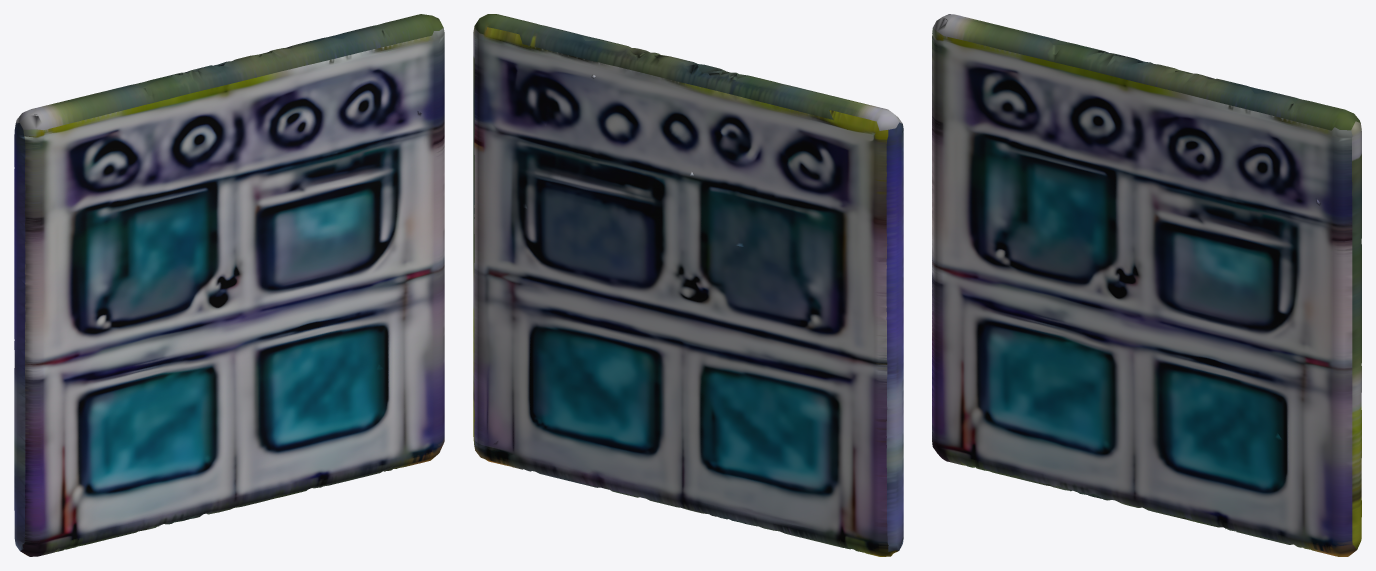
File: stove.glb
The picture shows the model from 3 angles, left to right: view 1: azimuth 30°, elevation 25°; view 2: azimuth 150°, elevation 25°; view 3: azimuth 330°, elevation 25°; orthographic projection.
Parts seen in each view (by area): view 1: textured; view 2: textured; view 3: textured.
Boxes of the visible parts, x1=… form: textured: x1=14, y1=14, x2=444, y2=556; textured: x1=473, y1=14, x2=903, y2=556; textured: x1=932, y1=14, x2=1361, y2=556.
Bounding box in the file's own units: 2.14 × 2.14 × 0.163.
1 material, 1 textured.
